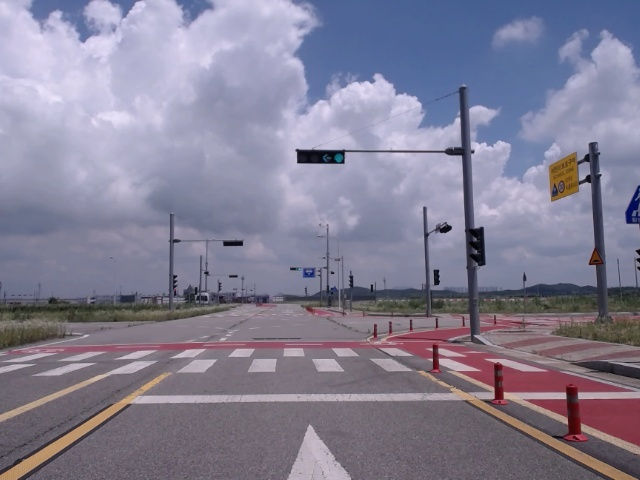all_green_4: (295, 150, 348, 164)
